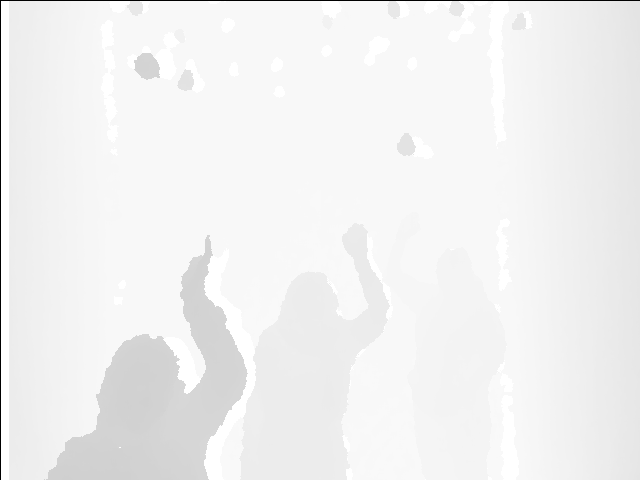hand: (180, 234, 220, 284), (340, 222, 372, 263), (394, 211, 421, 244)
